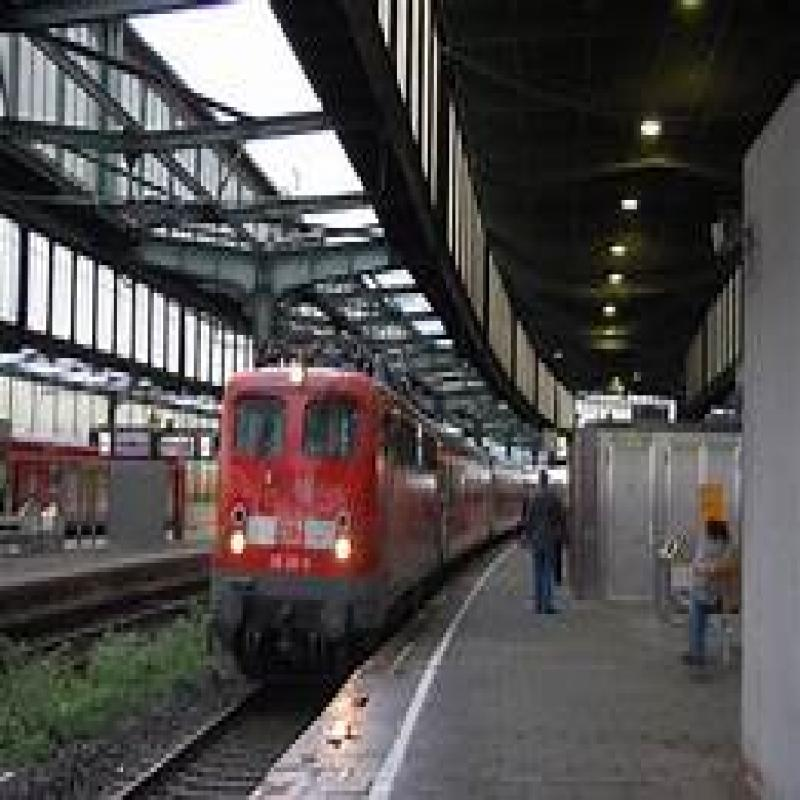train: (216, 364, 475, 647)
